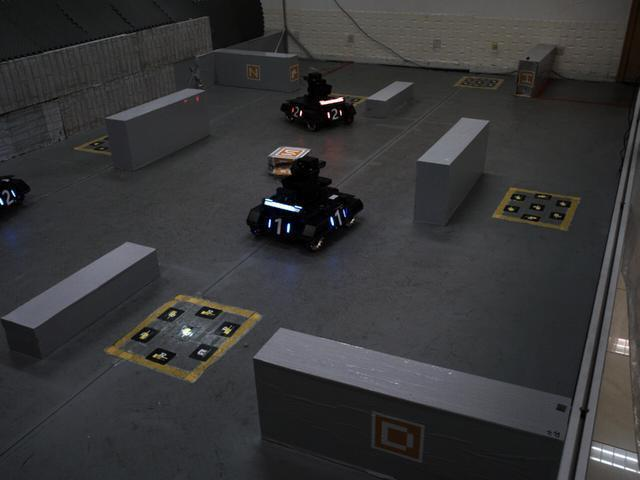armor: (262, 211, 293, 242), (327, 207, 352, 232), (285, 101, 309, 123), (322, 104, 345, 125), (0, 185, 20, 207)
